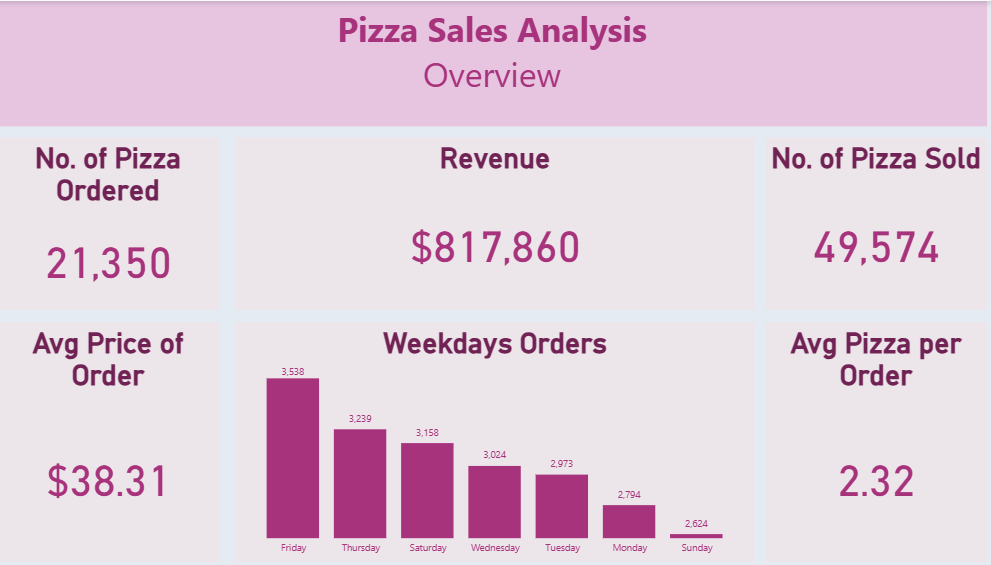

The dashboard page shown, as its layout file describes it:
{"tool":"powerbi","page":{"name":"Overview","canvas":[1280,720],"ordinal":0},"visuals":[{"type":"card","title":"Revenue","fields":{"Values":["Sum(Total_Revenue.Total_revenue)"]},"box":[319.4,172,653.9,217.3],"z":0},{"type":"card","title":"Avg Price of Order","fields":{"Values":["Sum(Average_order_Value.Average_order_value)"]},"box":[18.9,404.4,279.7,302.4],"z":1000},{"type":"card","title":"Avg Pizza per Order","fields":{"Values":["Sum(Averagepizzaperorder.Avg_Pizza_per_order)"]},"box":[986.5,404.4,279.7,302.4],"z":2000},{"type":"card","title":"No. of Pizza Ordered","fields":{"Values":["Sum(Orders_Count.No_of_orders)"]},"box":[18.9,172,279.7,217.3],"z":3000},{"type":"card","title":"No. of Pizza Sold","fields":{"Values":["Sum(Total_Pizza_Sold.Total_Pizza_Sold)"]},"box":[986.5,172,279.7,217.3],"z":4000},{"type":"clusteredColumnChart","title":"Weekdays Orders","fields":{"Y":["Sum(Ordersperdays.No_of_order)"],"Category":["Ordersperdays.Order_Day"]},"box":[319.4,404.4,653.9,302.4],"z":5000},{"type":"textbox","box":[18.9,0,1247.3,158],"z":6000},{"type":"image","box":[18.9,0,427.1,141.7],"z":7000},{"type":"image","box":[772.9,0,427.1,141.7],"z":8000}]}

Visuals, with their boxes in screenshot pixels (x1, y1, x2, y2), scaled from the page's 1280x720 canvas onto the 991x565 screenshot:
"Revenue" card: region(247, 135, 754, 305)
"Avg Price of Order" card: region(15, 317, 231, 555)
"Avg Pizza per Order" card: region(764, 317, 980, 555)
"No. of Pizza Ordered" card: region(15, 135, 231, 305)
"No. of Pizza Sold" card: region(764, 135, 980, 305)
"Weekdays Orders" clusteredColumnChart: region(247, 317, 754, 555)
textbox: region(15, 0, 980, 124)
image: region(15, 0, 345, 111)
image: region(598, 0, 929, 111)
